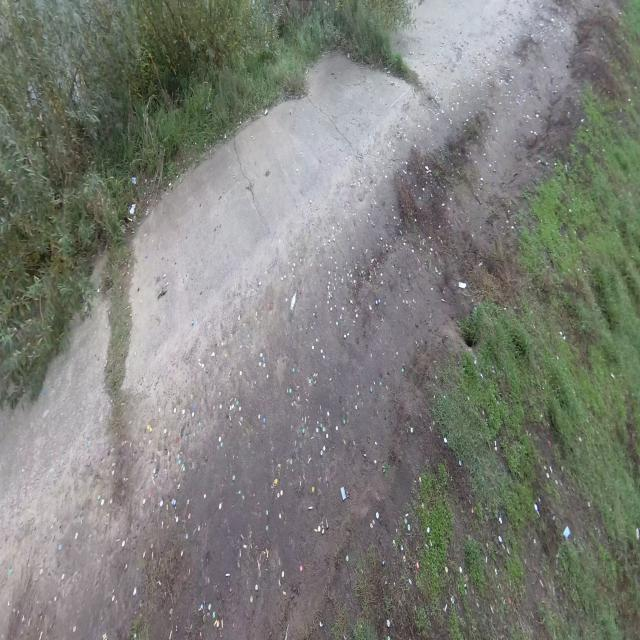rubbish: (288, 289, 297, 313), (340, 484, 347, 502)
